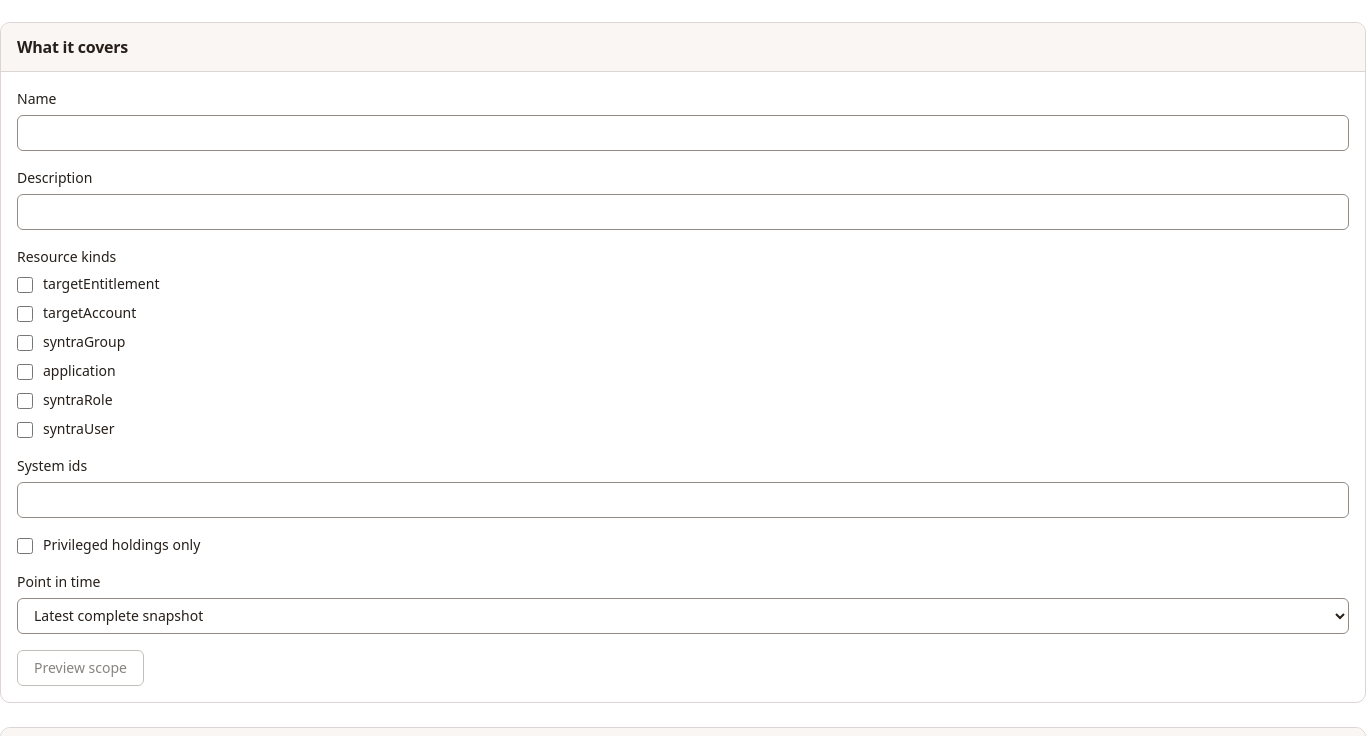
it: creating a campaign › renders the server refusal rather than a generic apology
Type "H2 access review" into the field labelled "Name".
click(683, 133); type("H2 access review")  # box [17,115,1349,151]
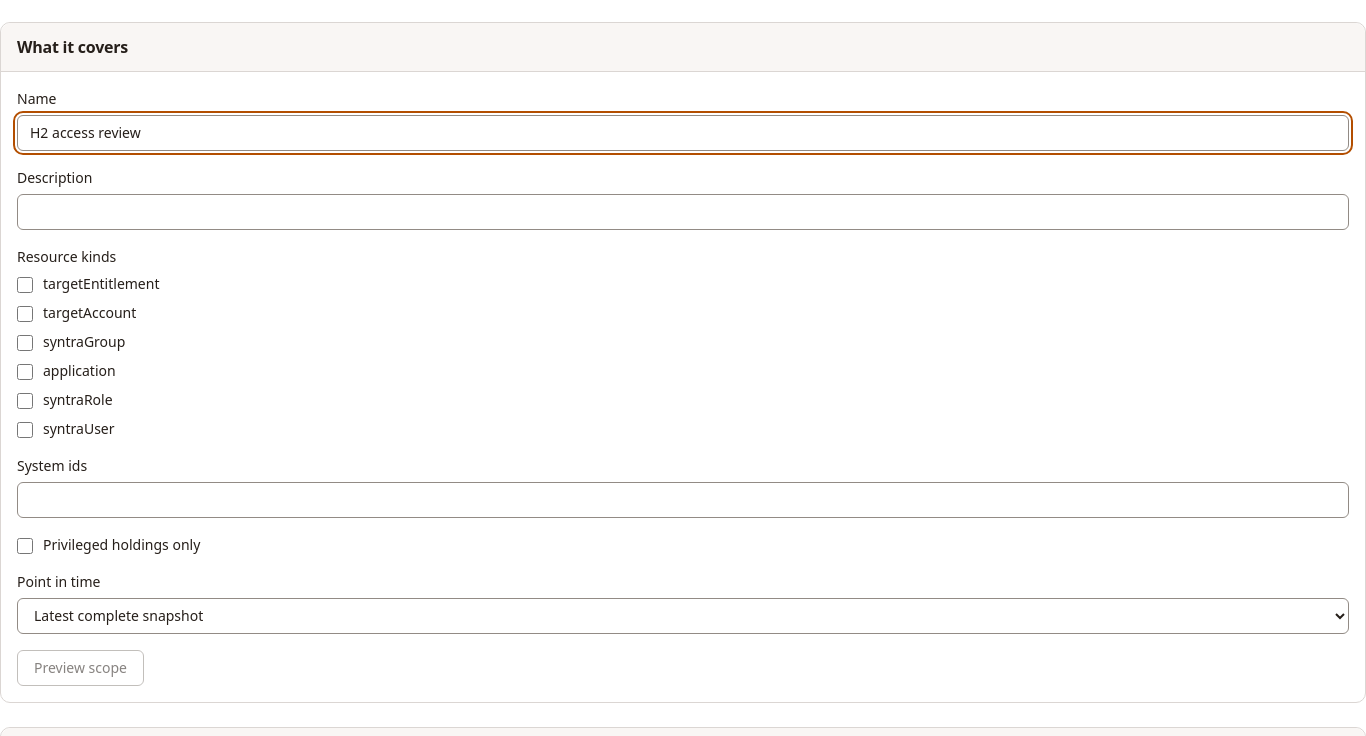
Click the checkbox labelled "targetEntitlement".
click(25, 285)  # box [17,277,33,293]
(page scrolled)
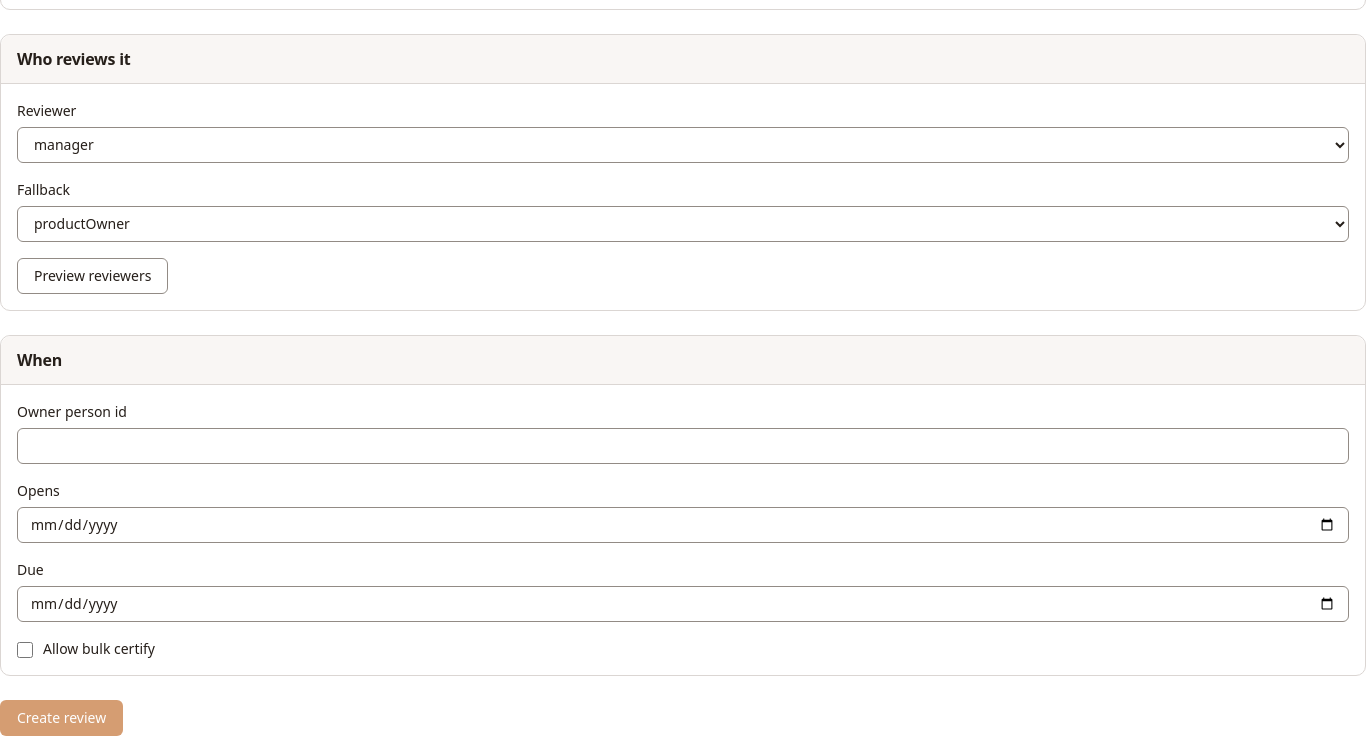
Type "33333333-3333-4333-8333-333333333333" into the field labelled "Owner person id".
click(683, 446); type("33333333-3333-4333-8333-333333333333")  # box [17,428,1349,464]
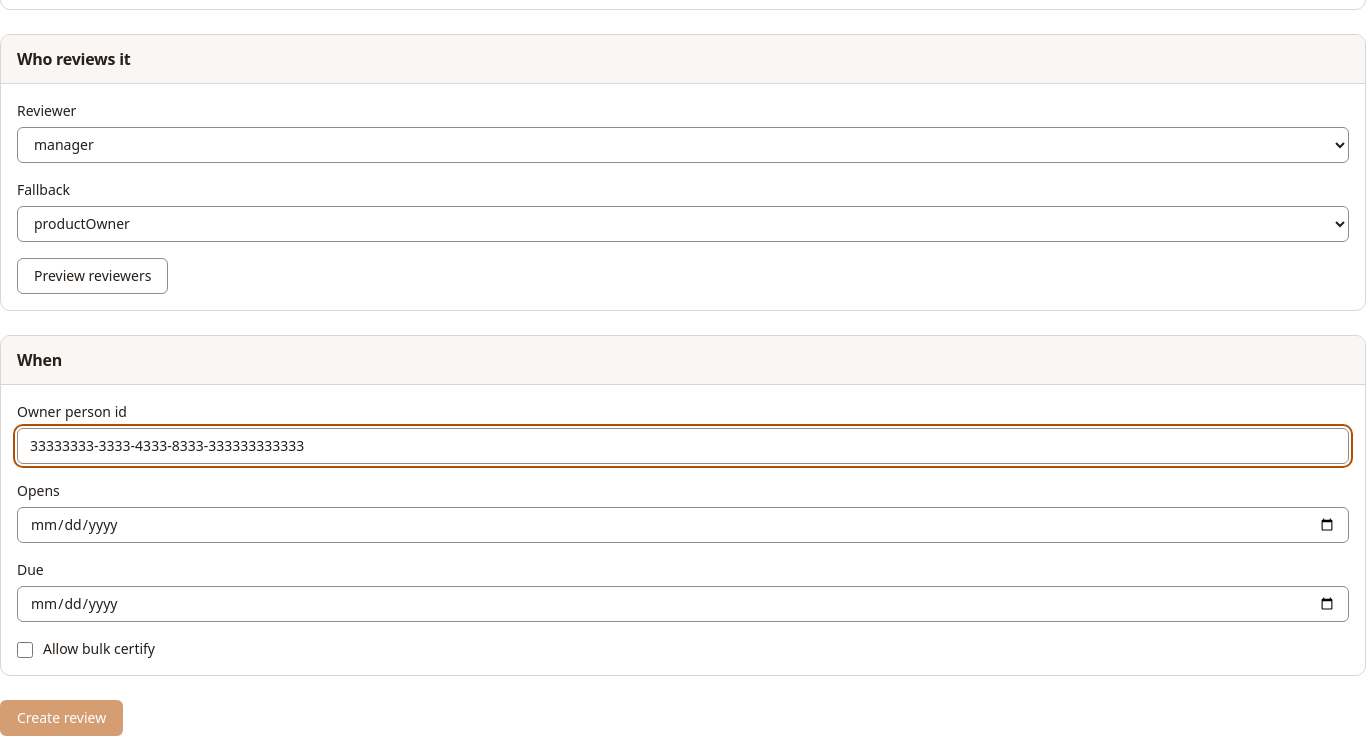
Type "2026-09-01" into the date field labelled "Opens".
click(683, 525); type("2026-09-01")  # box [17,507,1349,543]
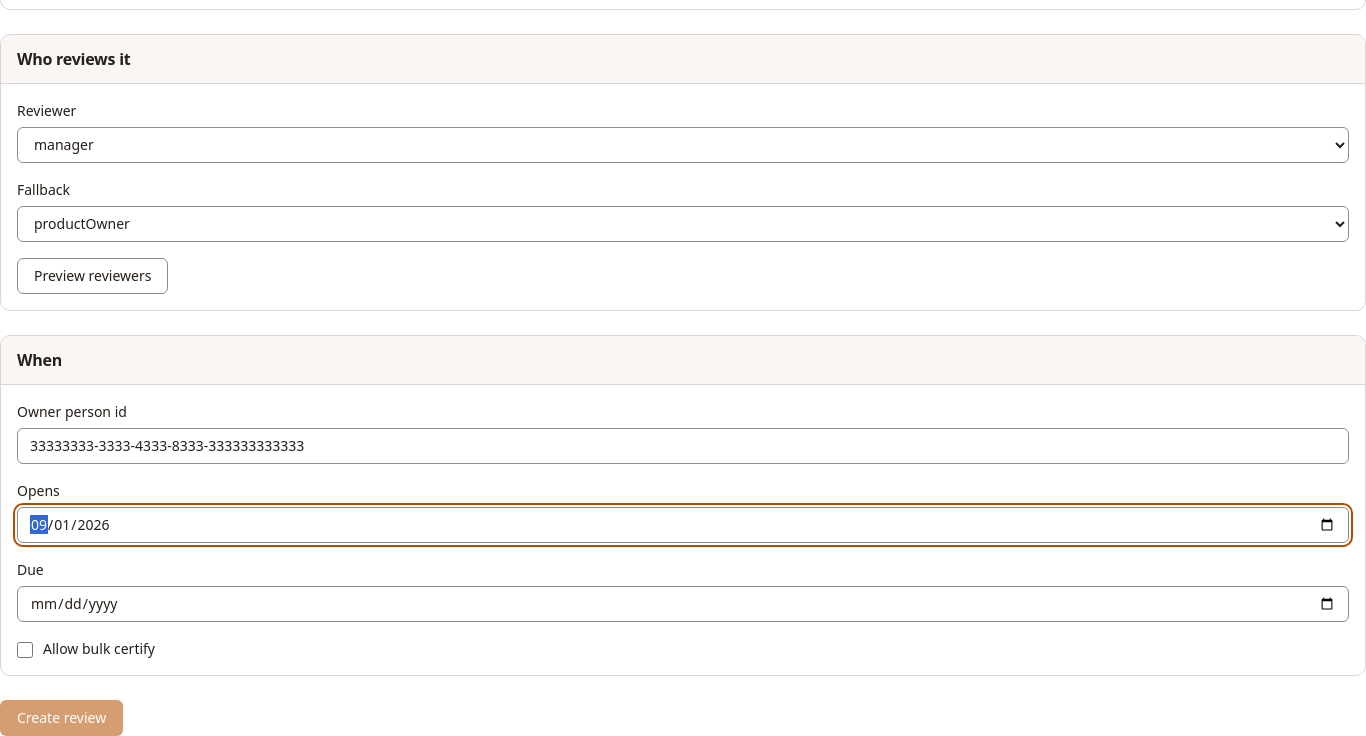
Type "2026-09-30" into the date field labelled "Due".
click(683, 604); type("2026-09-30")  # box [17,586,1349,622]
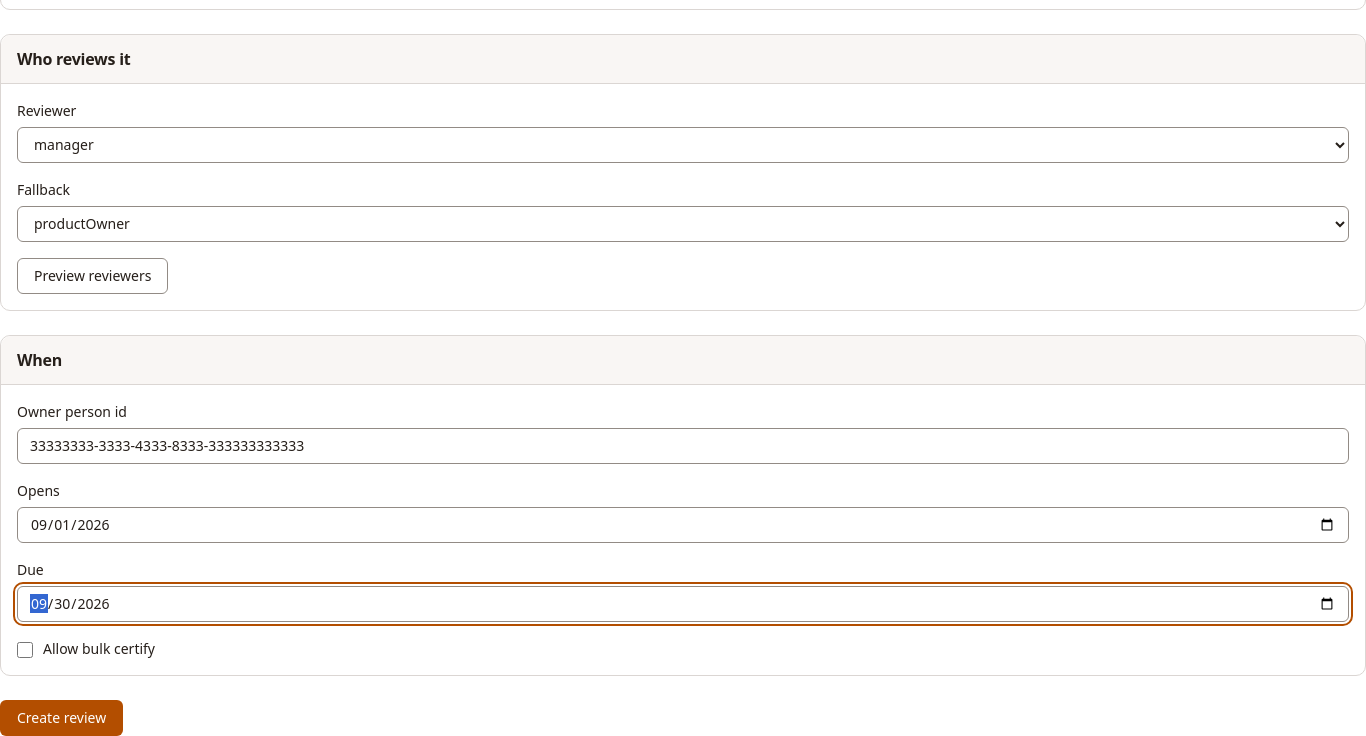
Click the button "Create review".
click(62, 718)  # box [0,700,123,735]
(page scrolled)
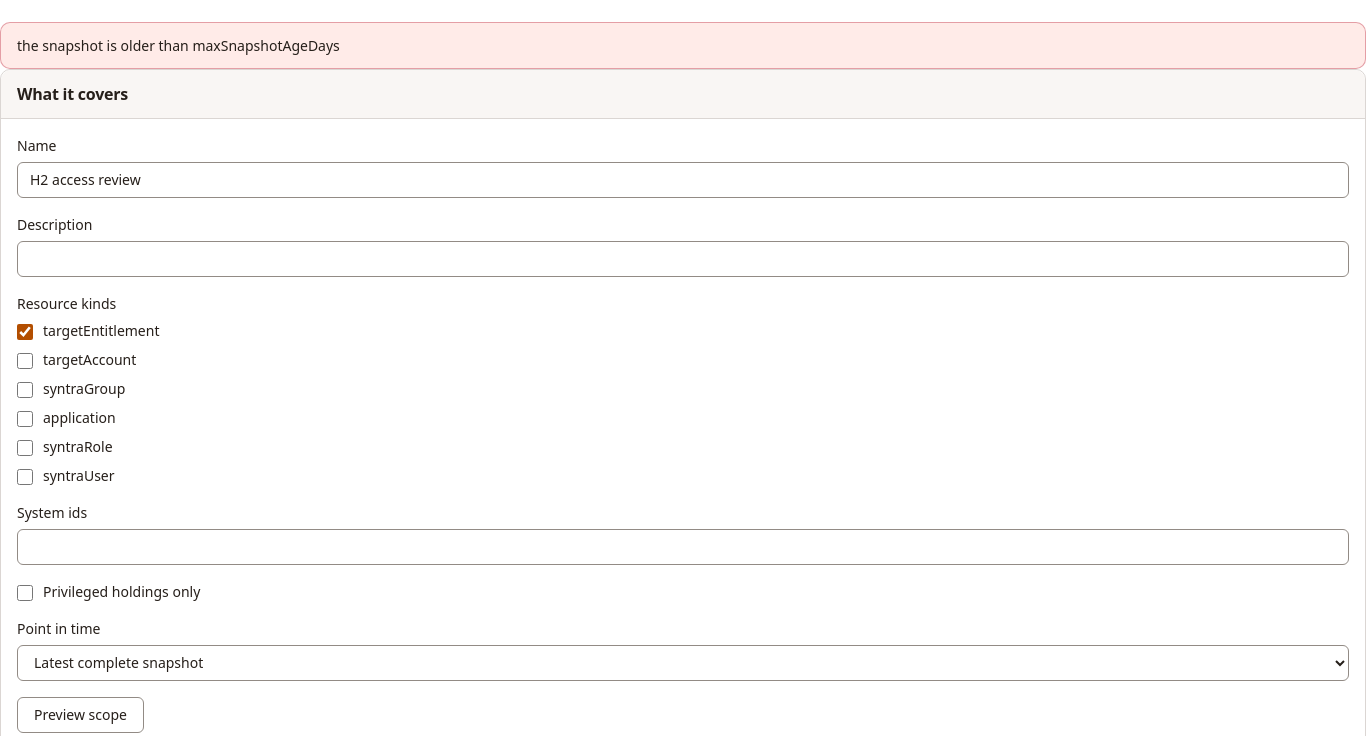
Now the text "the snapshot is older than maxSnapshotAgeDays" is shown, box [17,36,340,55]
